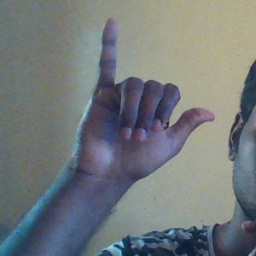J: (76, 15, 216, 176)
